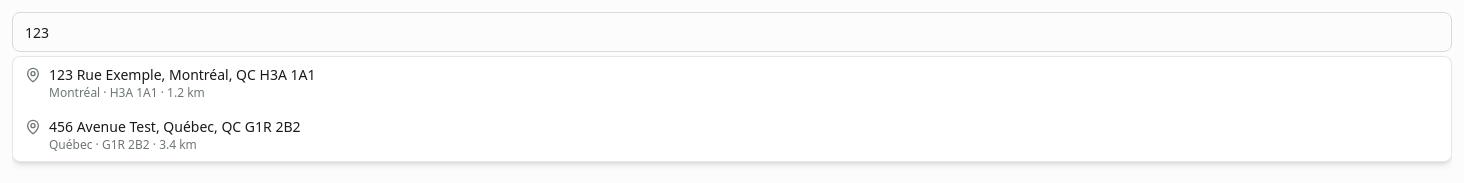
Test: AddressAutocomplete › focus behavior › re-opens dropdown on focus when suggestions are available
Expected: the list is shown, [12,56,1452,162]
Close it via Escape
Press Escape in the field, box [12,12,1452,52]
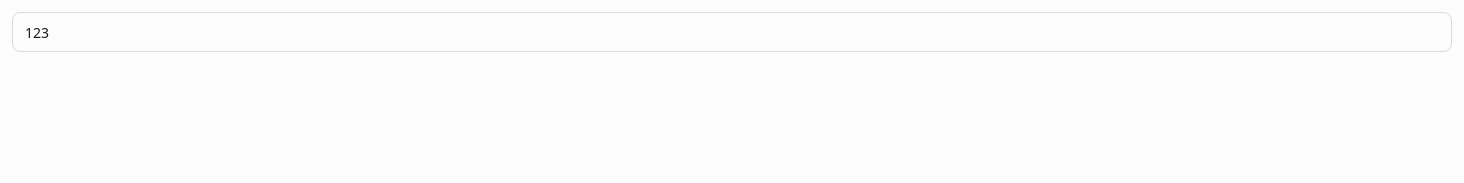
Expected: the list is gone
Focus the field at (732, 32), box [12,12,1452,52]
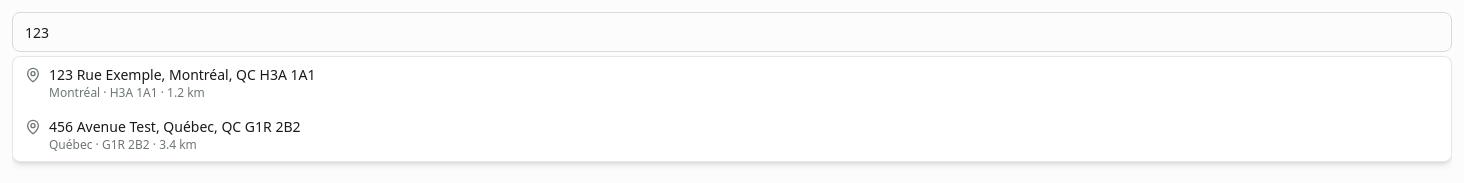
Expected: the list is shown, [12,56,1452,162]
